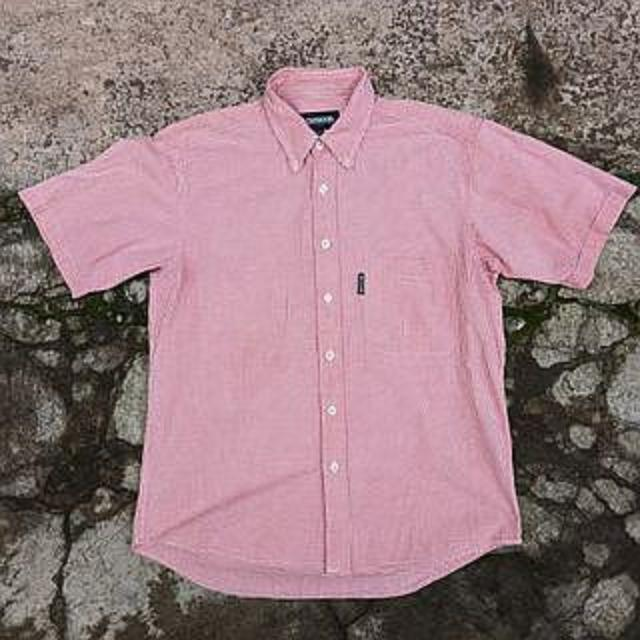SHIRT: (3, 58, 640, 608)
